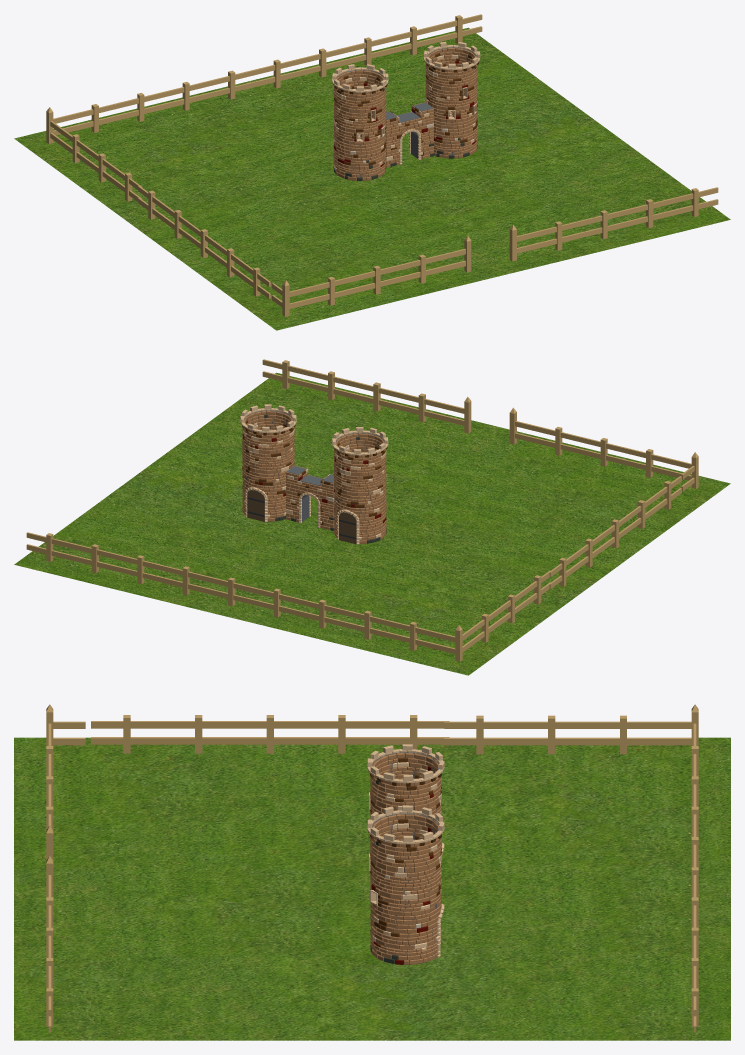
File: region-0 - Copy (2).glb
The picture shows the model from 3 angles, top to bottom: view 1: azimuth 30°, elevation 25°; view 2: azimuth 150°, elevation 25°; view 3: azimuth 270°, elevation 25°; orthographic projection. The views are drawn at different scales.
Parts seen in each view (by area): view 1: base, fence-mid-piece-x5.002, fence-mid-piece-x4, fence-mid-piece-x5.001, wall-section-with-doorway, top-section-with-crenellation, top-section-with-crenellation.001, fence-mid-piece-x3.003, fence-mid-piece-x3, base-section-with-doorway, mid-section-with-three-slits, mid-section-with-three-slits.001 (+7 smaller); view 2: base, fence-mid-piece-x5.002, fence-mid-piece-x4, fence-mid-piece-x5.001, wall-section-with-doorway, top-section-with-crenellation.001, top-section-with-crenellation, fence-mid-piece-x3, fence-mid-piece-x3.003, mid-section-with-three-slits, mid-section-with-three-slits.001, base-section-with-doorway (+8 smaller); view 3: base, fence-mid-piece-x5.001, fence-mid-piece-x3.001, top-section-with-crenellation.001, top-section-with-crenellation, mid-section-with-three-slits.001, base-section-with-doorway.001, fence-mid-piece-x5.002, fence-mid-piece-x4, fence-corner-piece.001, fence-corner-piece, fence-mid-piece-x3.003 (+2 smaller).
Boxes of the visible parts, x1,y1,x2,y2 form: base: (14,27,730,330); fence-mid-piece-x5.002: (72,58,300,132); fence-mid-piece-x4: (299,14,482,77); fence-mid-piece-x5.001: (138,186,270,298); wall-section-with-doorway: (385,102,433,167); top-section-with-crenellation: (332,64,388,109); top-section-with-crenellation.001: (423,41,480,86); fence-mid-piece-x3.003: (536,198,672,250); fence-mid-piece-x3: (308,254,445,305); base-section-with-doorway: (333,133,385,180); mid-section-with-three-slits: (334,88,386,144); mid-section-with-three-slits.001: (425,66,477,122); base: (14,372,730,675); fence-mid-piece-x5.002: (208,576,436,650); fence-mid-piece-x4: (26,532,208,595); fence-mid-piece-x5.001: (549,476,681,588); wall-section-with-doorway: (286,465,334,530); top-section-with-crenellation.001: (240,404,296,449); top-section-with-crenellation: (332,427,388,472); fence-mid-piece-x3: (535,426,672,477); fence-mid-piece-x3.003: (308,370,445,422); mid-section-with-three-slits: (334,451,386,507); mid-section-with-three-slits.001: (242,429,294,485); base-section-with-doorway: (334,497,386,544); base: (14,737,730,1040); fence-mid-piece-x5.001: (91,715,449,753); fence-mid-piece-x3.001: (444,715,659,754); top-section-with-crenellation.001: (367,805,444,867); top-section-with-crenellation: (367,744,444,805); mid-section-with-three-slits.001: (369,839,441,916); base-section-with-doorway.001: (370,902,444,964); fence-mid-piece-x5.002: (691,737,698,897); fence-mid-piece-x4: (691,888,698,1032); fence-corner-piece.001: (659,704,698,745); fence-corner-piece: (46,704,85,745); fence-mid-piece-x3.003: (46,888,53,988).
Size of the model in its own units: 20 by 3.97 by 20.
Materials: 41 (1 with a texture image).
